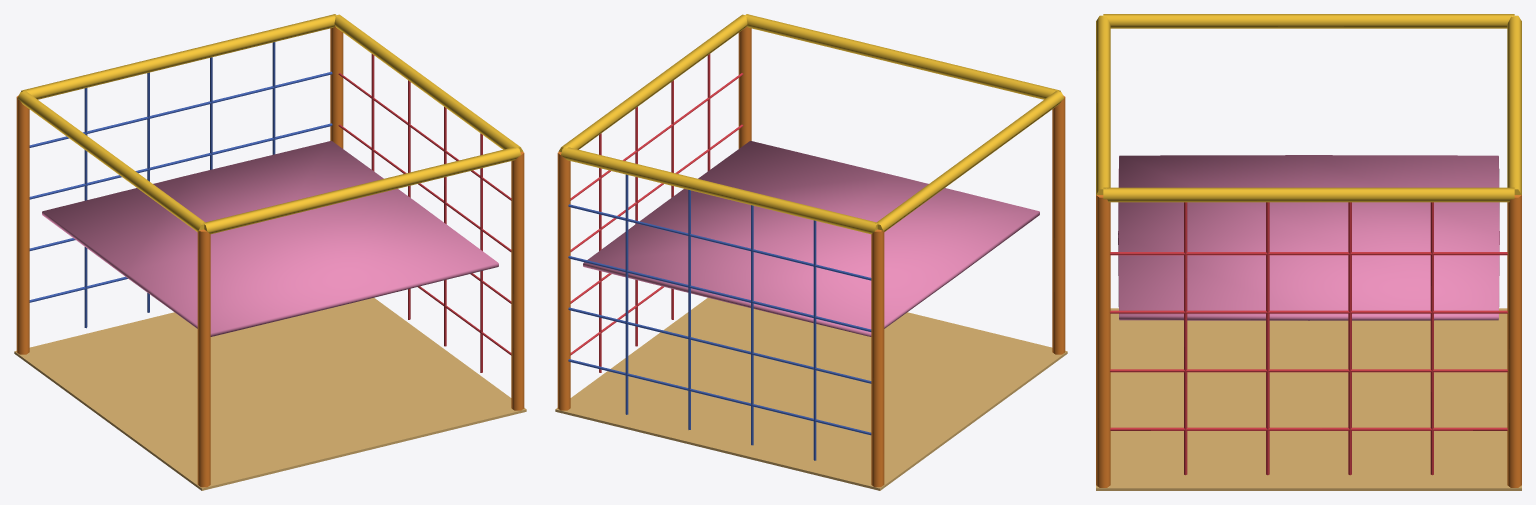
The model's file is jungle_gym.glb.
The picture shows the model from 3 angles, left to right: view 1: azimuth 30°, elevation 25°; view 2: azimuth 150°, elevation 25°; view 3: azimuth 270°, elevation 25°; orthographic projection. The views are drawn at different scales.
Parts seen in each view (by area): view 1: root; view 2: root; view 3: root.
Part boxes in pixels (box(x1,y1,x2,y2)): root: box(14, 14, 526, 490); root: box(555, 14, 1067, 490); root: box(1096, 14, 1521, 490).
Bounding box in the file's own units: 2.9 × 2.24 × 2.9.
